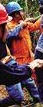boots: (0, 95, 23, 106), (0, 100, 10, 107)
gloves: (28, 17, 43, 42), (29, 58, 43, 68)
hard-hat: (0, 0, 21, 32)
ppe-suit: (8, 13, 37, 68)
